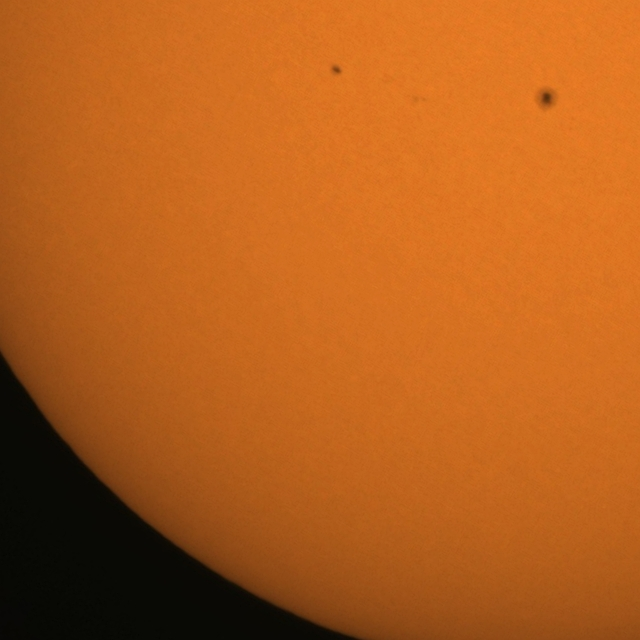sunspot: (535, 87, 558, 113), (330, 64, 343, 77)
